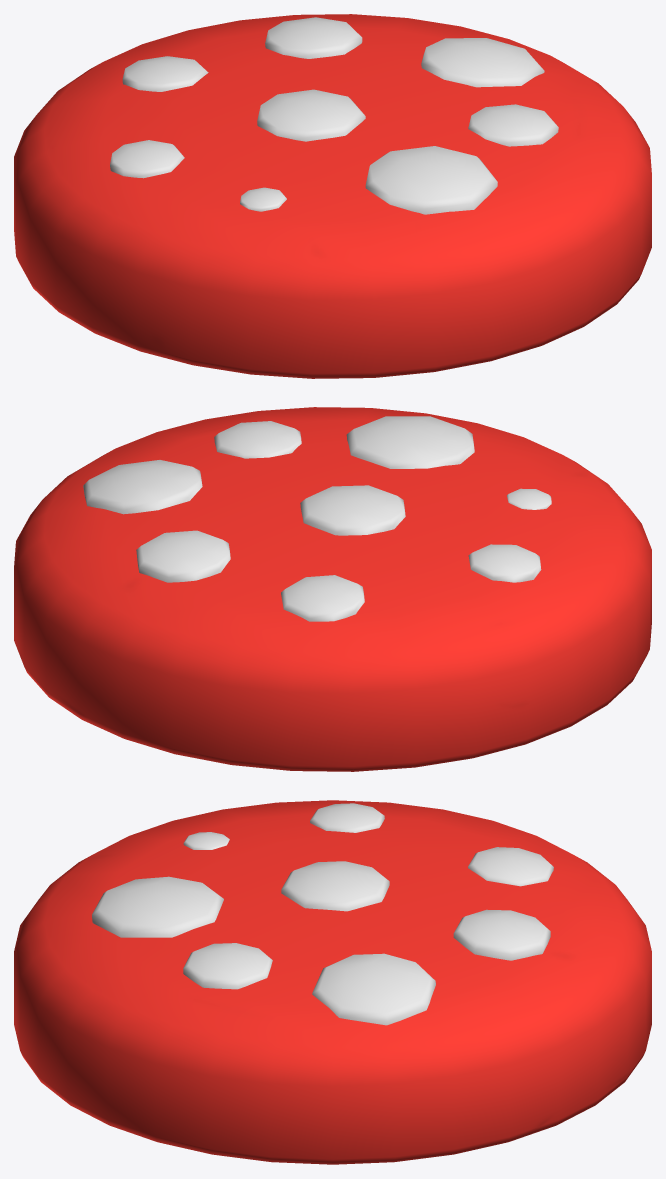
File: Mushroom.fbx
The picture shows the model from 3 angles, top to bottom: view 1: azimuth 30°, elevation 25°; view 2: azimuth 150°, elevation 25°; view 3: azimuth 270°, elevation 25°; orthographic projection.
Visible parts, largest first — view 1: Mushroom, MushroomSpot.003, MushroomSpot, MushroomSpot.004, MushroomSpot.005, MushroomSpot.007, MushroomSpot.001, MushroomSpot.006, MushroomSpot.002; view 2: Mushroom, MushroomSpot.003, MushroomSpot, MushroomSpot.004, MushroomSpot.005, MushroomSpot.001, MushroomSpot.007, MushroomSpot.006, MushroomSpot.002; view 3: Mushroom, MushroomSpot, MushroomSpot.003, MushroomSpot.004, MushroomSpot.005, MushroomSpot.007, MushroomSpot.001, MushroomSpot.006, MushroomSpot.002.
Boxes of the visible parts, box(x1,y1,x2,y2) form: Mushroom: box(14, 14, 651, 378); MushroomSpot.003: box(365, 146, 497, 214); MushroomSpot: box(421, 38, 544, 87); MushroomSpot.004: box(257, 89, 365, 141); MushroomSpot.005: box(265, 17, 362, 58); MushroomSpot.007: box(468, 104, 558, 146); MushroomSpot.001: box(122, 56, 208, 91); MushroomSpot.006: box(110, 140, 184, 178); MushroomSpot.002: box(240, 187, 286, 211); Mushroom: box(14, 407, 651, 771); MushroomSpot.003: box(346, 416, 474, 468); MushroomSpot: box(83, 460, 202, 514); MushroomSpot.004: box(300, 485, 405, 535); MushroomSpot.005: box(136, 530, 230, 582); MushroomSpot.001: box(281, 575, 364, 621); MushroomSpot.007: box(214, 421, 301, 458); MushroomSpot.006: box(468, 544, 541, 582); MushroomSpot.002: box(507, 488, 551, 509); Mushroom: box(14, 800, 651, 1164); MushroomSpot: box(312, 953, 435, 1025); MushroomSpot.003: box(92, 876, 223, 937); MushroomSpot.004: box(281, 861, 389, 911); MushroomSpot.005: box(453, 909, 550, 960); MushroomSpot.007: box(183, 943, 272, 989); MushroomSpot.001: box(468, 847, 553, 886); MushroomSpot.006: box(310, 803, 384, 832); MushroomSpot.002: box(183, 832, 229, 849).
Size of the model in its own units: 500 by 129 by 500.
Materials: 2 (1 with a texture image).
